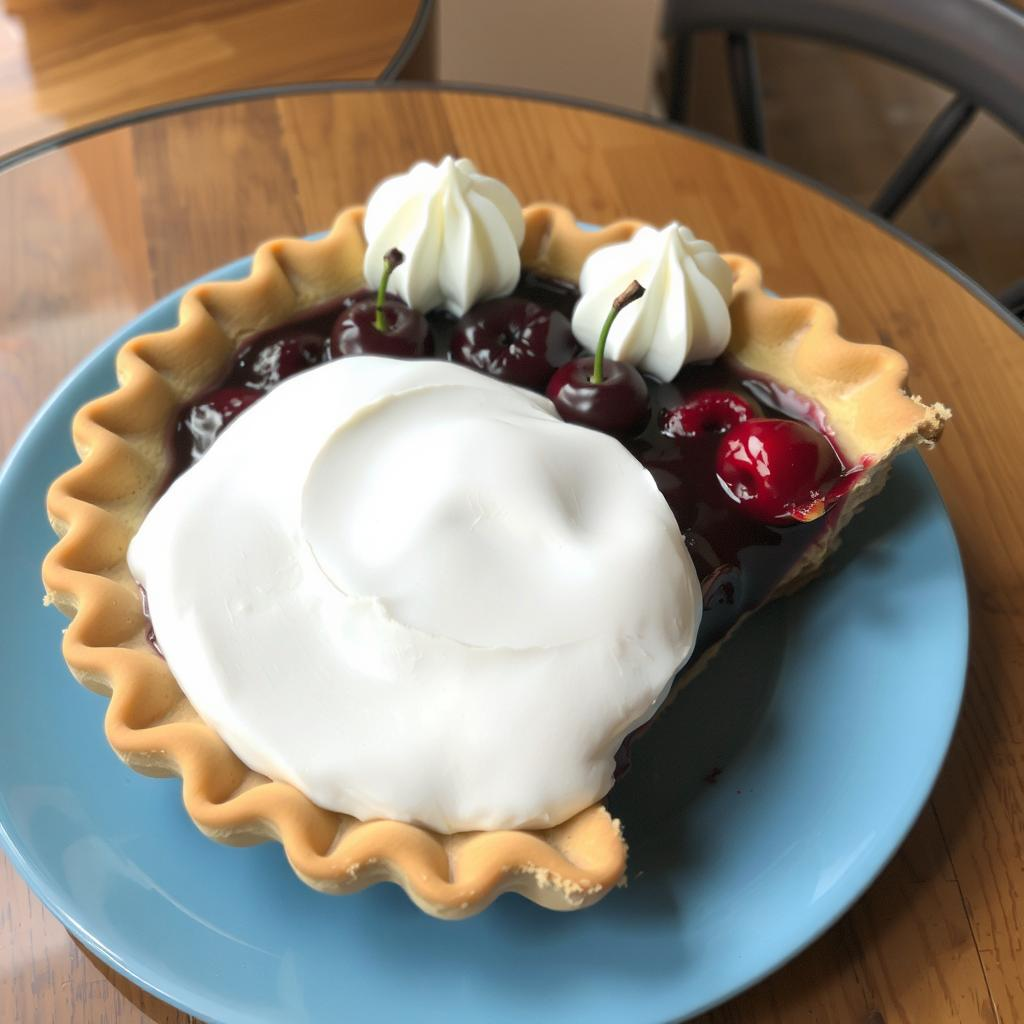pie: (39, 143, 959, 936)
